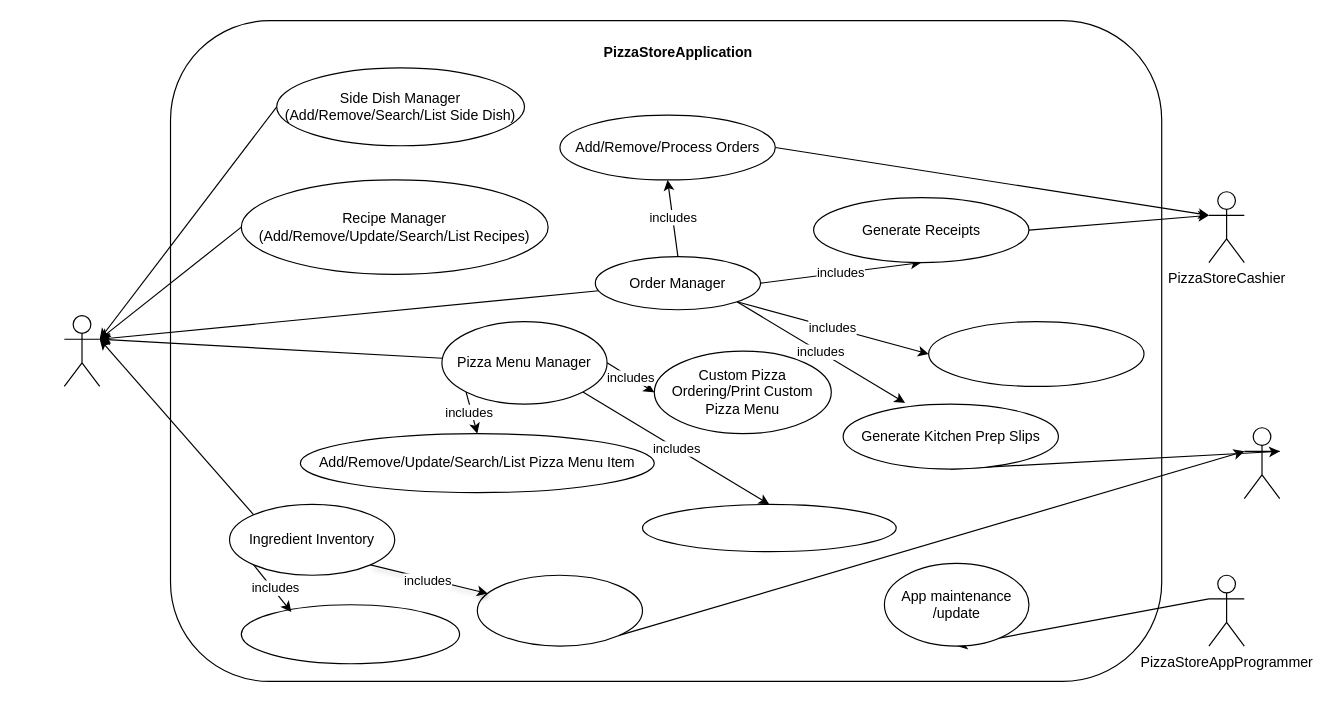
This 1333x702 diagram has some shape labels left out. The shapes that lost their labels are listed below. From the top down, each one's centre as x and y in pixels, then its label:
At (81,350): "PizzaStoreManager".
At (1035,353): "Display Order Details".
At (1261,463): "PizzaStoreChef".
At (768,527): "List Custom Pizza Item Options".
At (559,610): "Check Supply/Use Ingredients".
At (350,634): "Add/Remove/List Ingredients".
